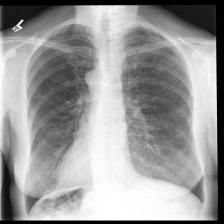normal: (22, 18, 208, 218)
